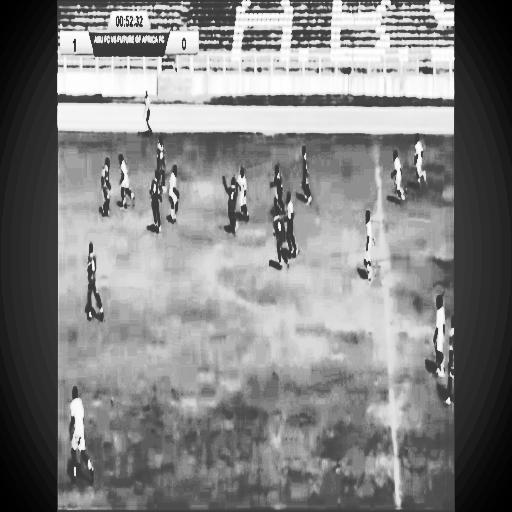referee: (282, 190, 300, 254), (140, 82, 153, 141)
team1: (65, 376, 96, 492), (429, 288, 449, 386), (358, 199, 376, 289), (386, 142, 406, 209), (115, 150, 135, 214), (411, 128, 429, 198), (168, 161, 183, 232), (236, 168, 248, 232)
team2: (81, 230, 107, 330), (219, 160, 239, 238), (267, 202, 288, 272), (97, 150, 115, 224), (299, 135, 314, 209), (447, 304, 455, 416), (271, 161, 285, 220), (150, 165, 162, 233), (156, 135, 166, 194)
